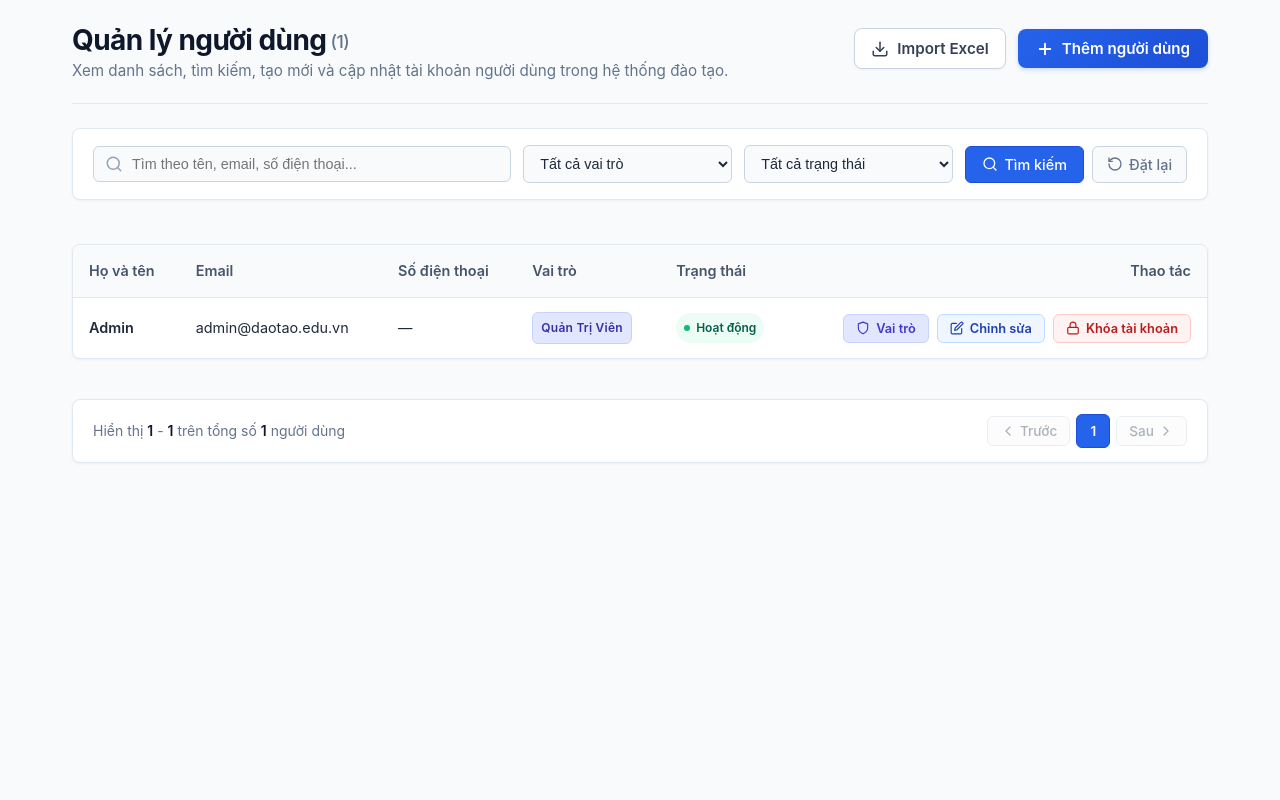
Test: SCRUM-119: Activity A6.1 - Bulk User Import Modal & Entry Point › 3. Click nút "Import Excel" mở modal import với đầy đủ cấu trúc 3 bước
Click the button with test id "btn-import-excel" at [930, 48], box [854, 28, 1006, 69]
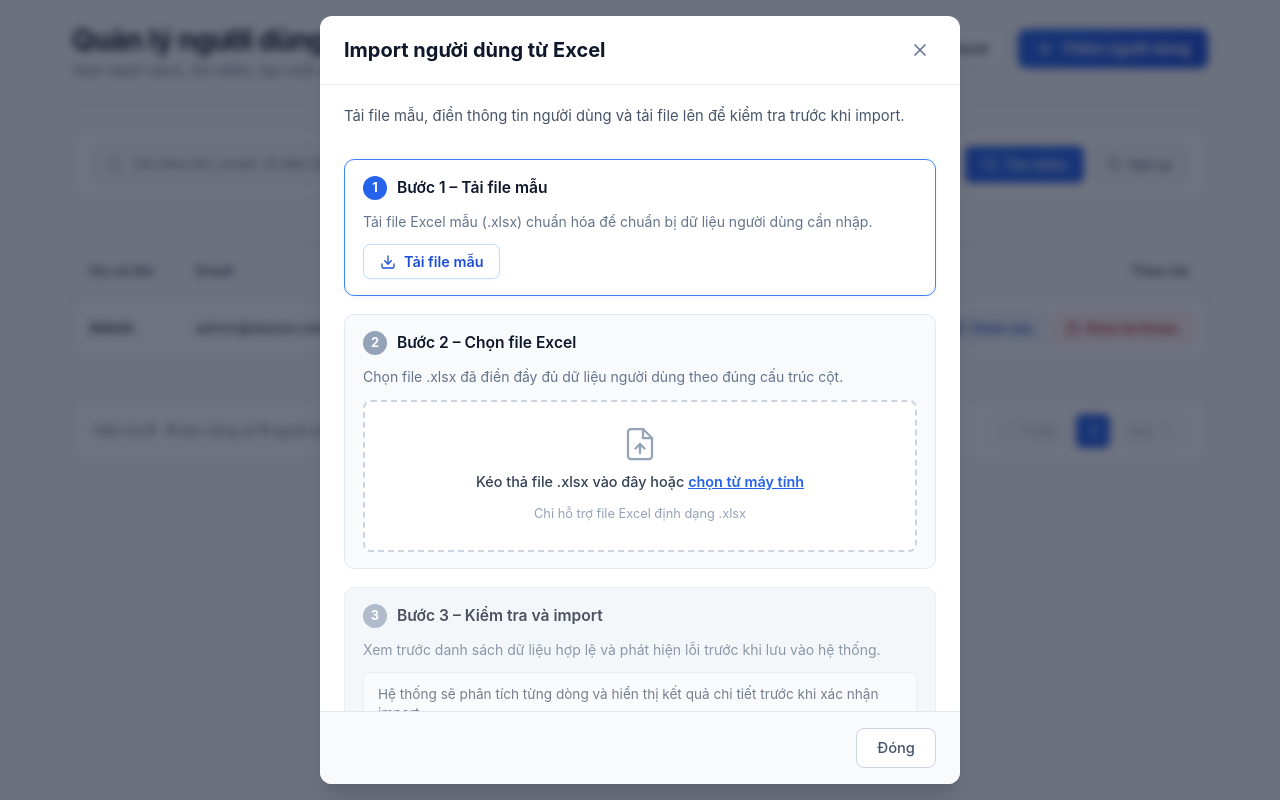
Check: the dialog with test id "bulk-import-modal" is shown, box [320, 16, 960, 784]
Check: the heading "Import người dùng từ Excel" is shown, box [344, 38, 606, 62]
Check: the text with test id "import-modal-description" shows "Tải file mẫu, điền thông tin người dùng và tải file lên để kiểm tra trước khi import.", box [344, 107, 905, 125]
